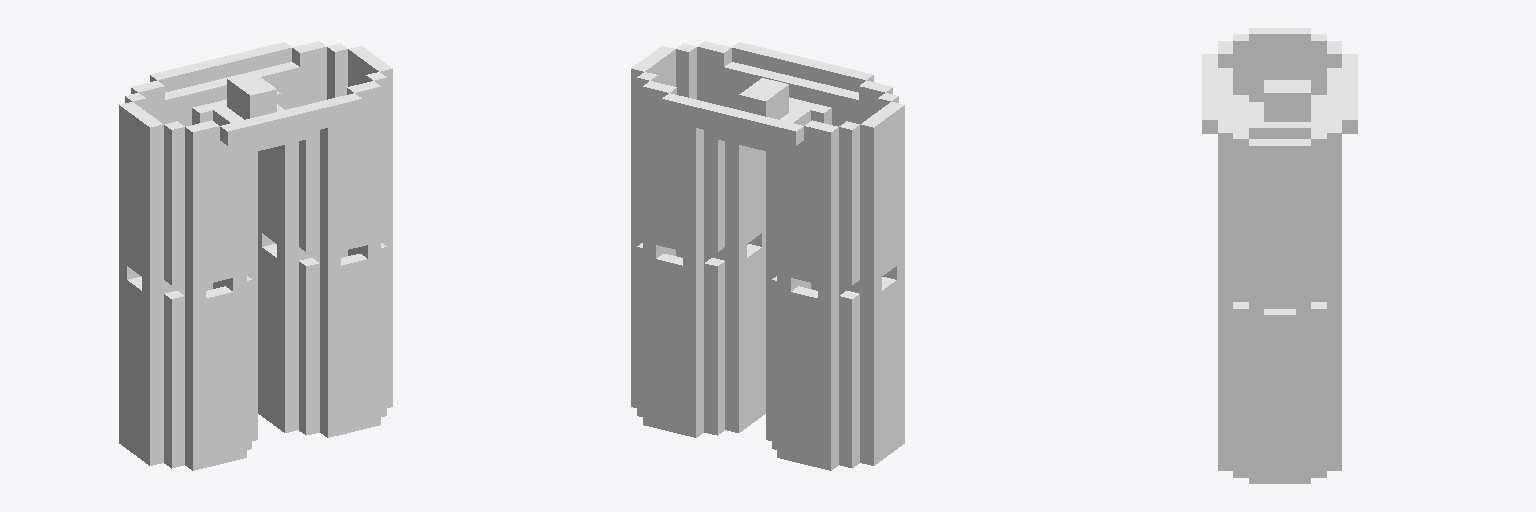
The model's file is PlateLegsFull.obj.
3 views of the same model, side by side, from view 1: azimuth 30°, elevation 25°; view 2: azimuth 150°, elevation 25°; view 3: azimuth 270°, elevation 25° (orthographic).
Parts seen in each view (by area): view 1: object 1; view 2: object 1; view 3: object 1.
Part boxes in pixels (left/top/right/bottom): object 1: left=119, top=41, right=392, bottom=470; object 1: left=631, top=41, right=904, bottom=470; object 1: left=1202, top=28, right=1357, bottom=483.
Size of the model in its own units: 1.8 by 2.4 by 1.